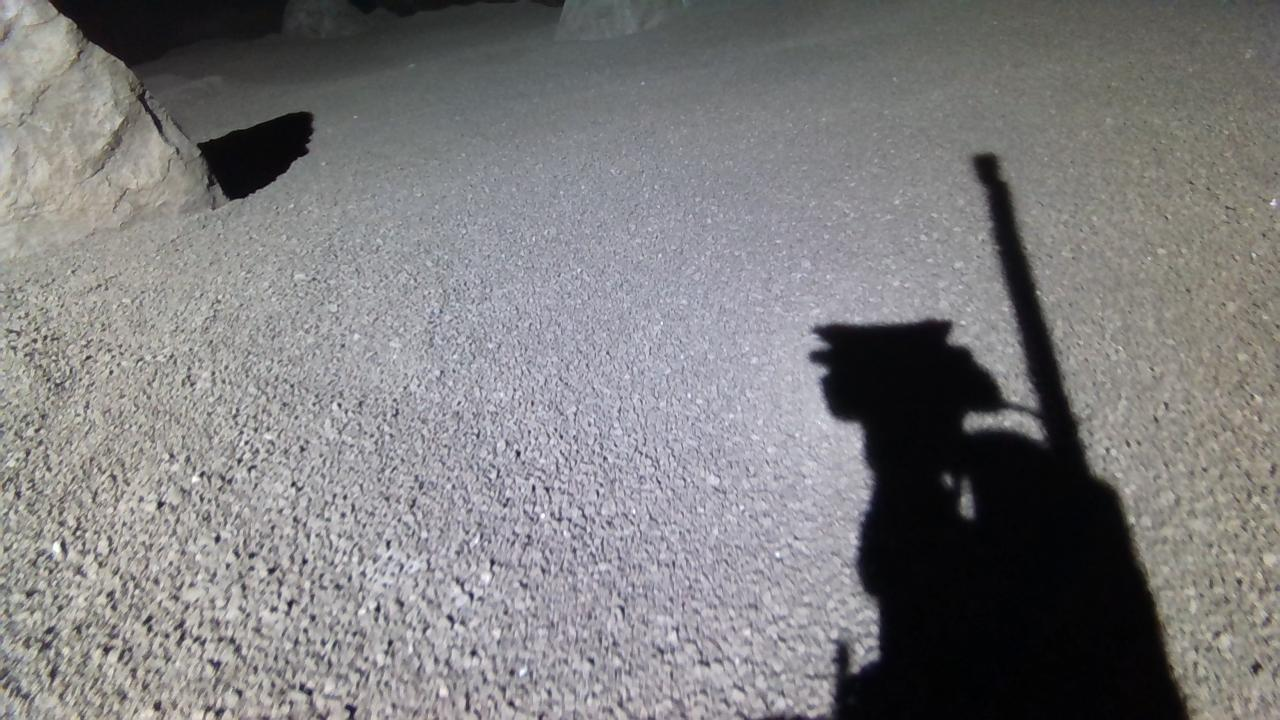rock: (0, 0, 224, 260), (555, 0, 689, 38), (282, 0, 370, 36)
